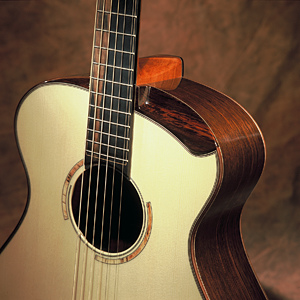guitar: (1, 1, 267, 300)
